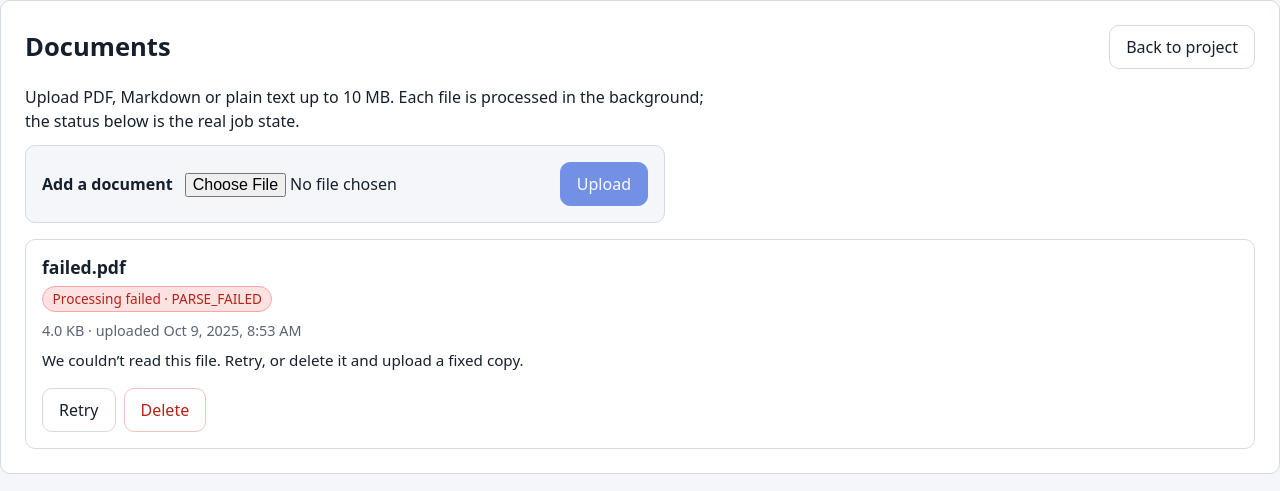
retry re-asks the backend and the badge returns to a real queued state
The image size is (1280, 491).
Expected: the heading "failed.pdf" is shown, [42,255,126,279]
What coordinates should you click on to do the following:
click the button with aria-label "Retry failed.pdf"
I would click on:
 (79, 410)
Its box is [42,388,116,432].
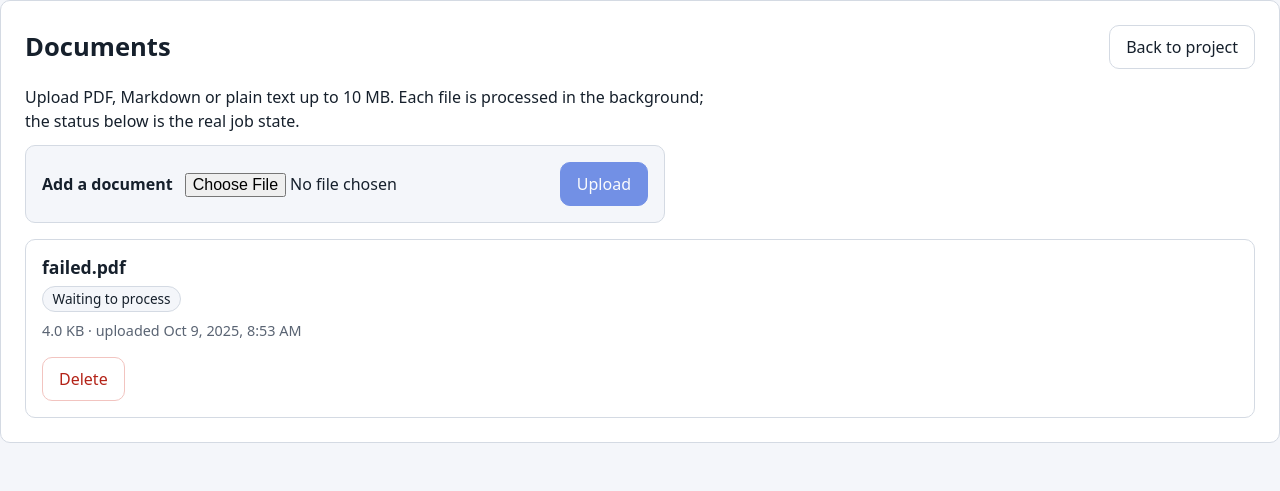
Now the text "Waiting to process" is shown, box [42,286,181,312]
